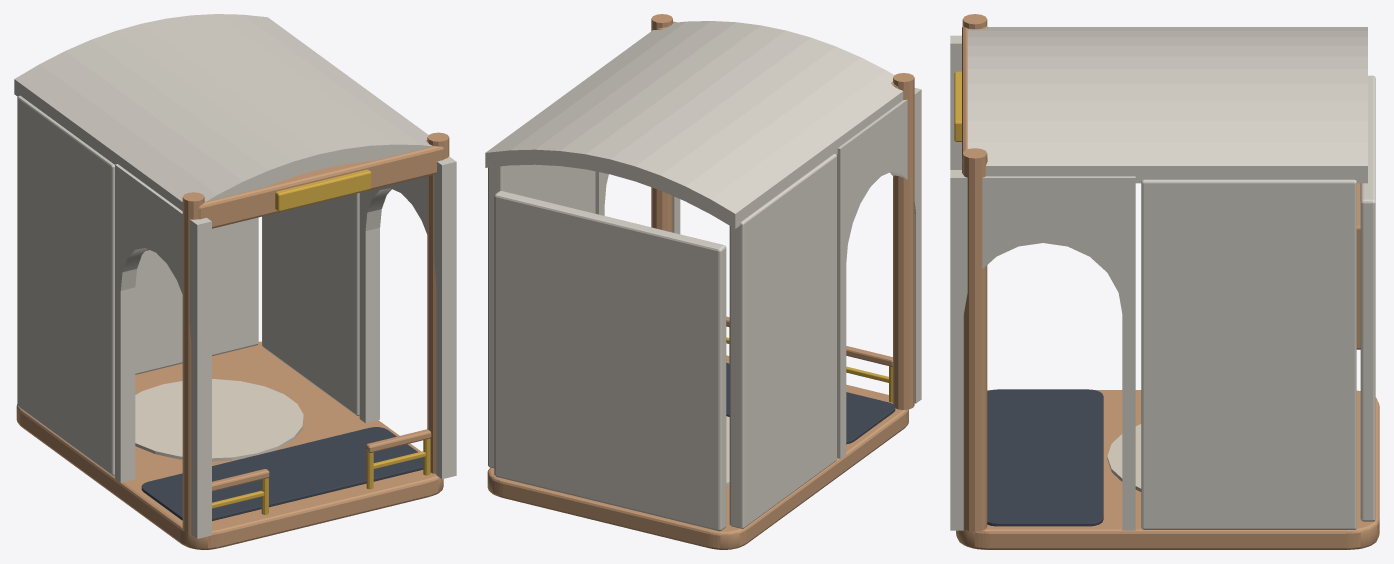
The model's file is WallHabitat_CubicleBay_Compact.fbx.
3 views of the same model, side by side, from view 1: azimuth 30°, elevation 25°; view 2: azimuth 150°, elevation 25°; view 3: azimuth 270°, elevation 25° (orthographic). The views are drawn at different scales.
Parts seen in each view (by area): view 1: WallHabitat_CubicleBay_Compact_Structure, WallHabitat_CubicleBay_Compact_Accents; view 2: WallHabitat_CubicleBay_Compact_Structure; view 3: WallHabitat_CubicleBay_Compact_Structure, WallHabitat_CubicleBay_Compact_Accents.
Part boxes in pixels (<box>): WallHabitat_CubicleBay_Compact_Structure: <box>14,14,456,549</box>; WallHabitat_CubicleBay_Compact_Accents: <box>275,169,371,211</box>; WallHabitat_CubicleBay_Compact_Structure: <box>485,14,921,549</box>; WallHabitat_CubicleBay_Compact_Structure: <box>950,14,1379,549</box>; WallHabitat_CubicleBay_Compact_Accents: <box>954,71,961,141</box>.
Size of the model in its own units: 18.1 by 24 by 22.7.
